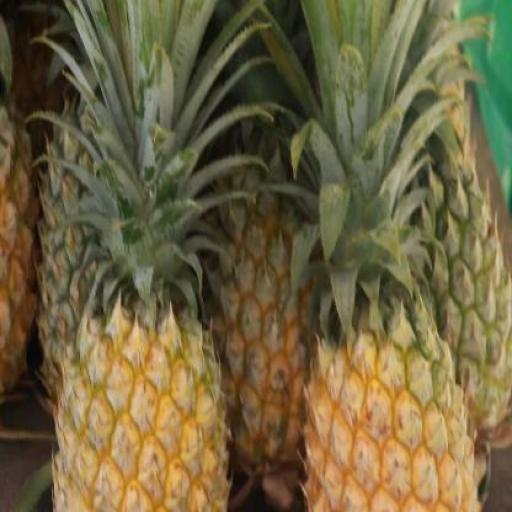Pineapple - v8 v1: (52, 310, 230, 512), (306, 327, 482, 511)
